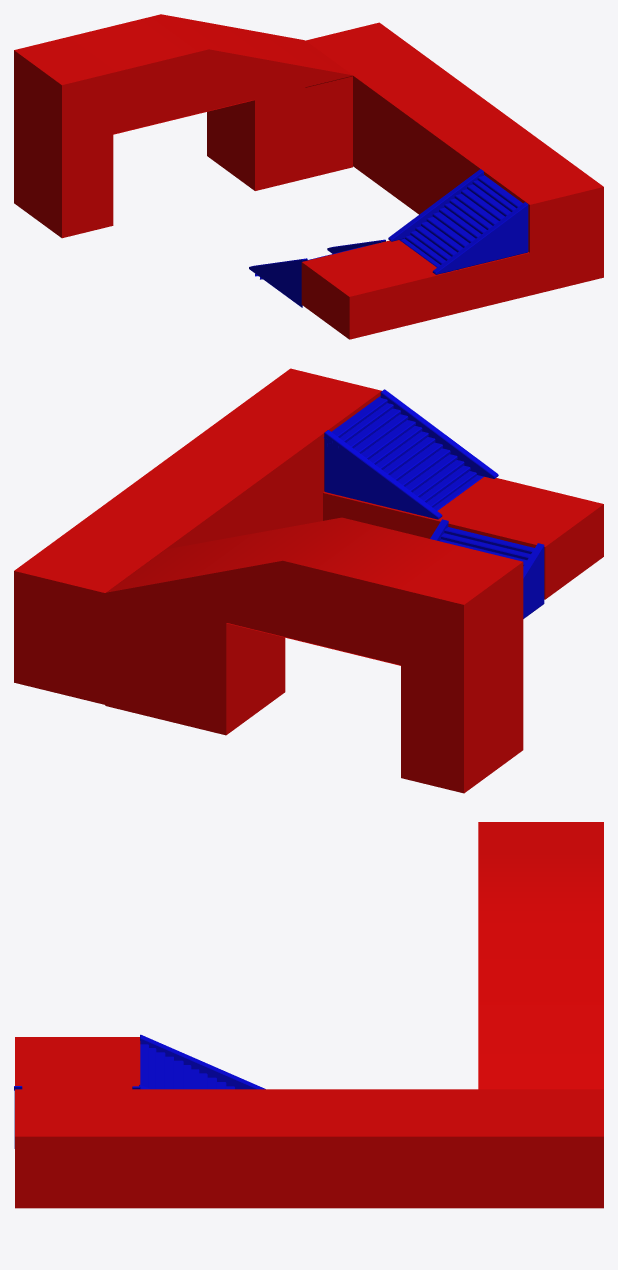
Rendered from staircase Unity.fbx.
3 renders of one model, top to bottom at view 1: azimuth 30°, elevation 25°; view 2: azimuth 150°, elevation 25°; view 3: azimuth 270°, elevation 25°, orthographic. The views are drawn at different scales.
Visible parts, largest first — view 1: stiarcaseUnity; view 2: stiarcaseUnity; view 3: stiarcaseUnity.
Boxes of the visible parts, x1,y1,x2,y2 form: stiarcaseUnity: [14, 14, 603, 339]; stiarcaseUnity: [14, 368, 603, 793]; stiarcaseUnity: [14, 822, 603, 1208].
Size of the model in its own units: 22.44 by 9.35 by 23.91.
